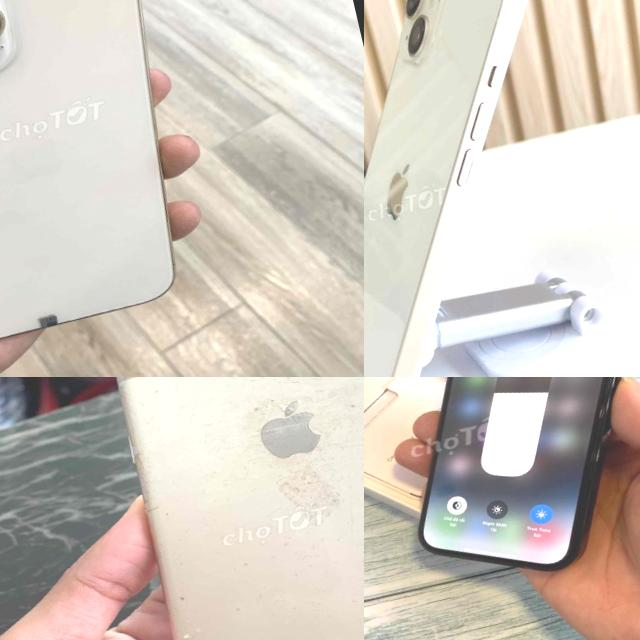gen_12_13: (0, 0, 216, 355)
gen_14: (364, 0, 614, 377), (364, 377, 640, 597)
gen_6: (90, 377, 364, 640)
